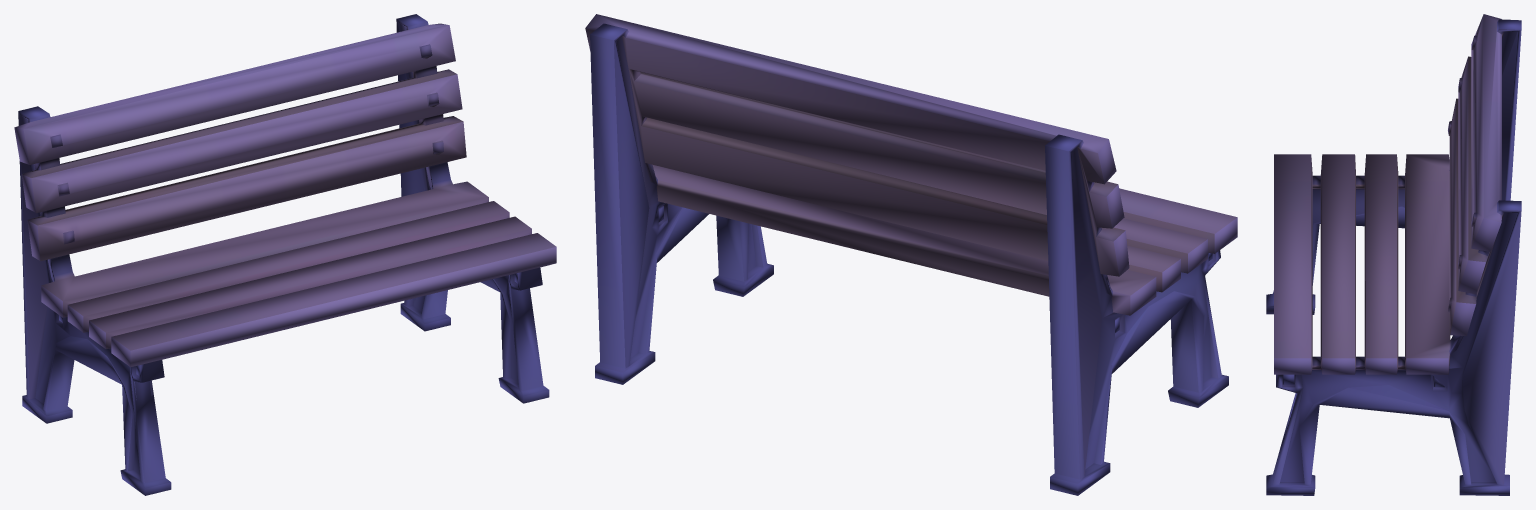
The model's file is model.progressive.glb.
The picture shows the model from 3 angles, left to right: view 1: azimuth 30°, elevation 25°; view 2: azimuth 150°, elevation 25°; view 3: azimuth 270°, elevation 25°; orthographic projection. The views are drawn at different scales.
Visible parts, largest first — view 1: mesh_input; view 2: mesh_input; view 3: mesh_input.
Part boxes in pixels (x1,y1,x2,y2): mesh_input: (14, 14, 556, 495); mesh_input: (585, 14, 1237, 495); mesh_input: (1266, 14, 1521, 495).
Size of the model in its own units: 1.89 by 1.23 by 1.
1 material, 1 textured.
